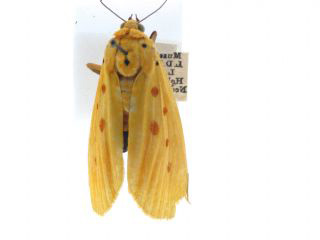Agape chloropyga: (82, 1, 191, 220)
moth: (82, 1, 191, 220)
